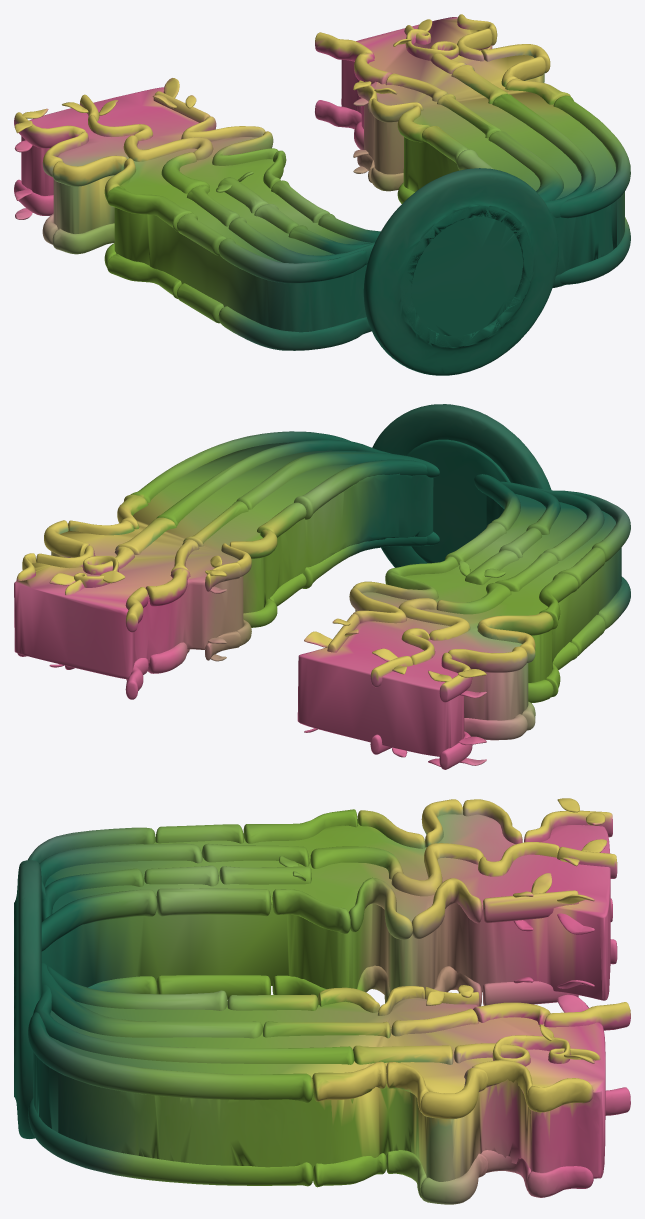
3 renders of one model, top to bottom at view 1: azimuth 30°, elevation 25°; view 2: azimuth 150°, elevation 25°; view 3: azimuth 270°, elevation 25°, orthographic. The views are drawn at different scales.
Parts seen in each view (by area): view 1: LOD 5_11715679123741618527_7772d8143698c4b469892684d4d44774; view 2: LOD 5_11715679123741618527_7772d8143698c4b469892684d4d44774; view 3: LOD 5_11715679123741618527_7772d8143698c4b469892684d4d44774.
Boxes of the visible parts, box(x1,y1,x2,y2) form: LOD 5_11715679123741618527_7772d8143698c4b469892684d4d44774: box(14, 14, 630, 375); LOD 5_11715679123741618527_7772d8143698c4b469892684d4d44774: box(14, 404, 630, 769); LOD 5_11715679123741618527_7772d8143698c4b469892684d4d44774: box(14, 798, 630, 1204).
Bounding box in the file's own units: 14.65 × 5.7 × 12.63.
